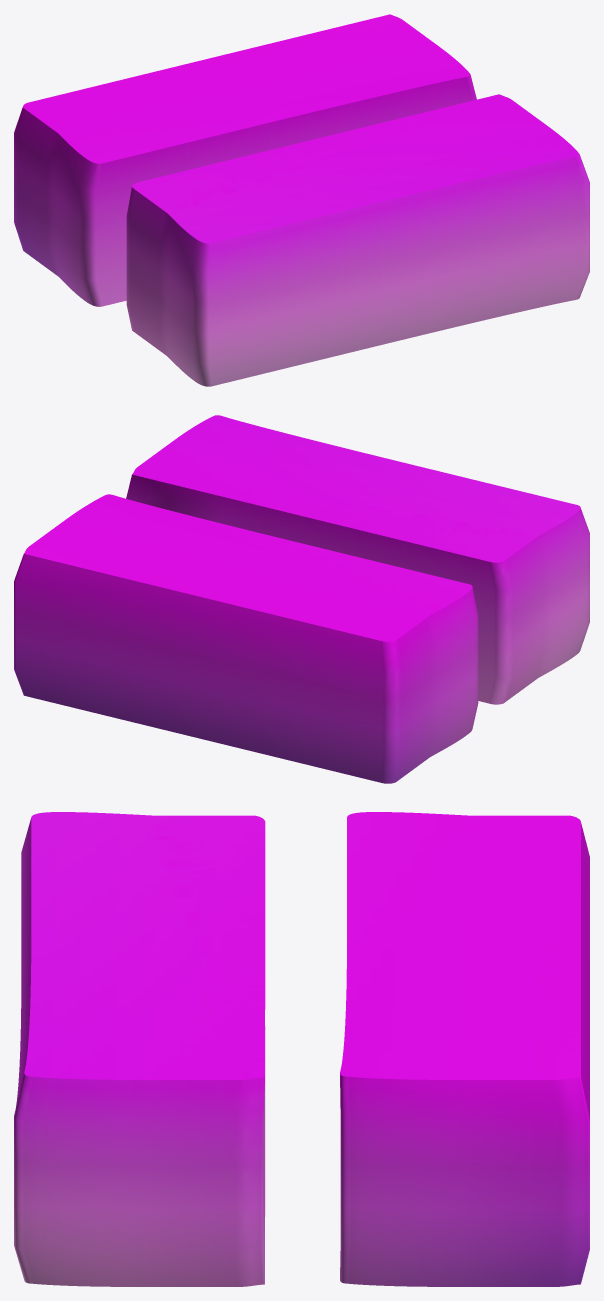
3 views of the same model, one above another, from view 1: azimuth 30°, elevation 25°; view 2: azimuth 150°, elevation 25°; view 3: azimuth 270°, elevation 25° (orthographic). The views are drawn at different scales.
Visible parts, largest first — view 1: Curve.013; view 2: Curve.013; view 3: Curve.013.
Part boxes in pixels (x1,y1,x2,y2): Curve.013: [14, 14, 589, 386]; Curve.013: [14, 415, 589, 783]; Curve.013: [14, 812, 589, 1286].
Bounding box in the file's own units: 32.61 × 11.36 × 28.64.
1 material, 1 textured.
